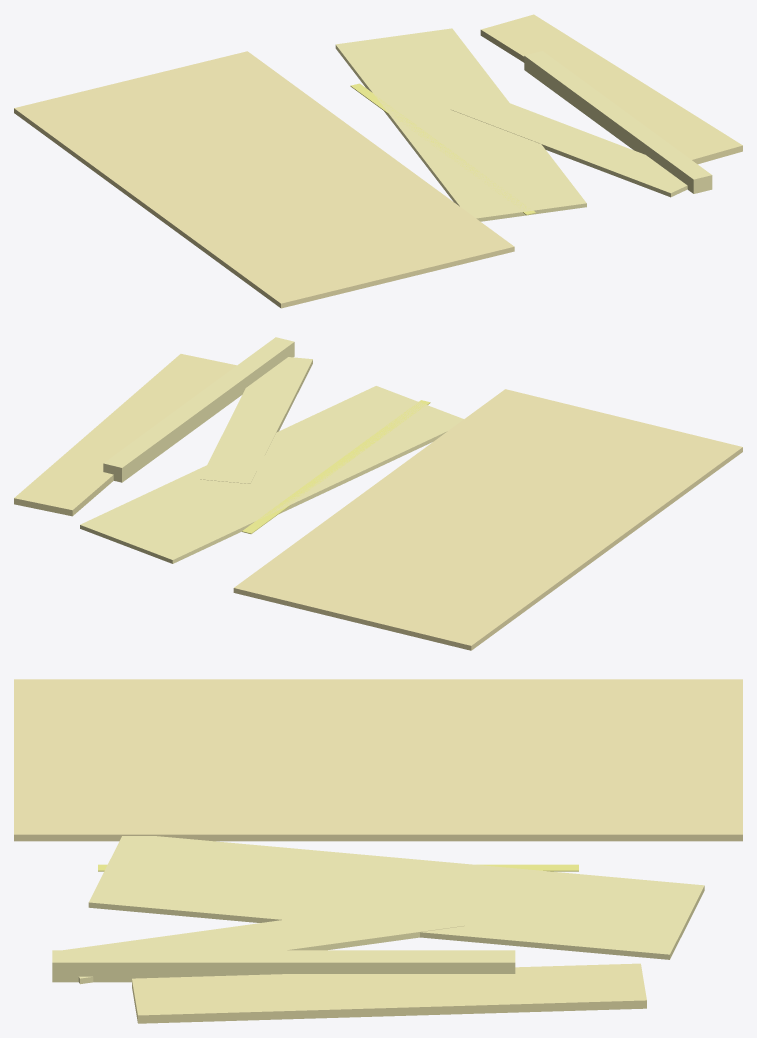
Rendered from road_roundabout_outer_ring_edge.glb.
3 views of the same model, one above another, from view 1: azimuth 30°, elevation 25°; view 2: azimuth 150°, elevation 25°; view 3: azimuth 270°, elevation 25° (orthographic). The views are drawn at different scales.
Visible parts, largest first — view 1: circulatory_lane, outer_ring_shoulder, landscape_wedge, truck_overrun_edge, mountable_curb, edge_band; view 2: circulatory_lane, outer_ring_shoulder, landscape_wedge, truck_overrun_edge, mountable_curb, edge_band; view 3: circulatory_lane, outer_ring_shoulder, landscape_wedge, mountable_curb, truck_overrun_edge, edge_band.
Part boxes in pixels (box(x1,y1,x2,y2)): circulatory_lane: box(14, 51, 514, 308); outer_ring_shoulder: box(335, 28, 586, 221); landscape_wedge: box(480, 14, 742, 164); truck_overrun_edge: box(450, 93, 687, 197); mountable_curb: box(524, 51, 712, 193); edge_band: box(350, 83, 535, 215); circulatory_lane: box(233, 389, 742, 650); outer_ring_shoulder: box(80, 386, 463, 563); landscape_wedge: box(14, 354, 236, 516); truck_overrun_edge: box(200, 357, 312, 483); mountable_curb: box(103, 337, 294, 482); edge_band: box(242, 400, 430, 533); circulatory_lane: box(14, 679, 742, 841); outer_ring_shoulder: box(88, 836, 704, 959); landscape_wedge: box(132, 963, 646, 1023); mountable_curb: box(52, 950, 515, 982); truck_overrun_edge: box(63, 898, 464, 984); edge_band: box(98, 864, 578, 871).
Size of the model in its own units: 4.39 by 0.12 by 4.
